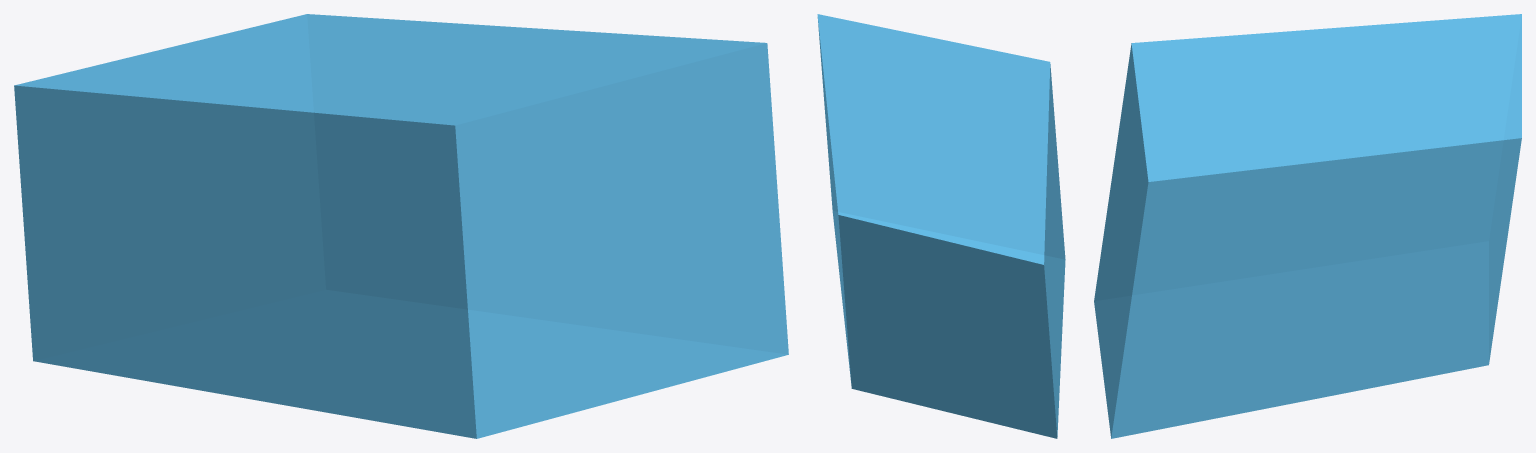
Rendered from Event_421364160_HBrechit_30.fbx.
3 views of the same model, side by side, from view 1: azimuth 30°, elevation 25°; view 2: azimuth 150°, elevation 25°; view 3: azimuth 270°, elevation 25° (orthographic). The views are drawn at different scales.
Visible parts, largest first — view 1: Model; view 2: Model; view 3: Model.
Part boxes in pixels (left/top/right/bottom): Model: left=14, top=14, right=788, bottom=438; Model: left=817, top=14, right=1065, bottom=438; Model: left=1094, top=14, right=1521, bottom=438.
Size of the model in its own units: 0.8566 by 0.5077 by 0.6801.
